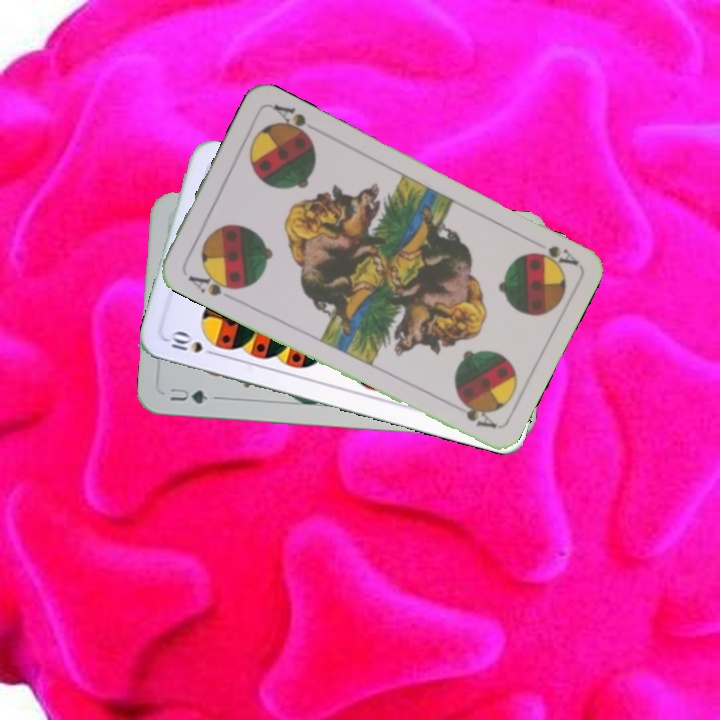GU: (166, 384, 212, 406)
S10: (167, 328, 221, 359)
SA: (184, 266, 241, 303), (525, 241, 580, 271)
